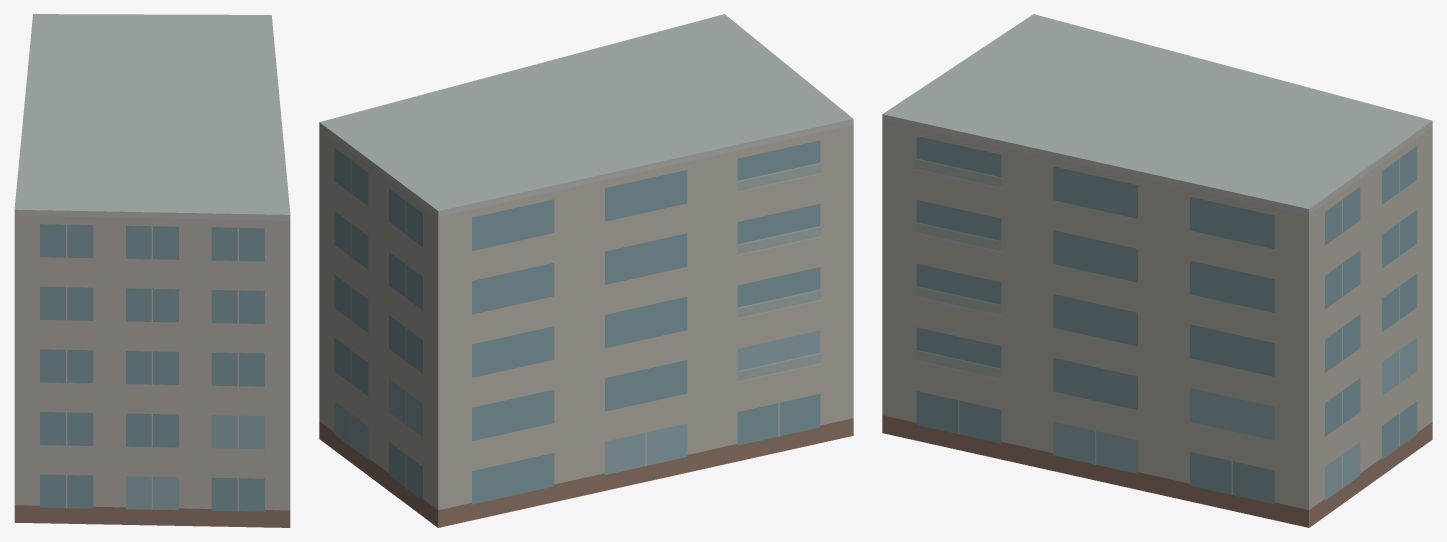
File: survey-upis-32783019.glb
3 renders of one model, left to right at view 1: azimuth 30°, elevation 25°; view 2: azimuth 150°, elevation 25°; view 3: azimuth 270°, elevation 25°, orthographic.
Visible parts, largest first — view 1: survey-upis-32783019.tmp; view 2: survey-upis-32783019.tmp; view 3: survey-upis-32783019.tmp.
Boxes of the visible parts, x1,y1,x2,y2 form: survey-upis-32783019.tmp: (14, 14, 290, 527); survey-upis-32783019.tmp: (319, 14, 853, 527); survey-upis-32783019.tmp: (882, 14, 1432, 527).
Size of the model in its own units: 17.2 by 13.1 by 20.51.
